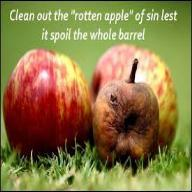apple: (6, 51, 90, 149), (92, 78, 160, 164)
